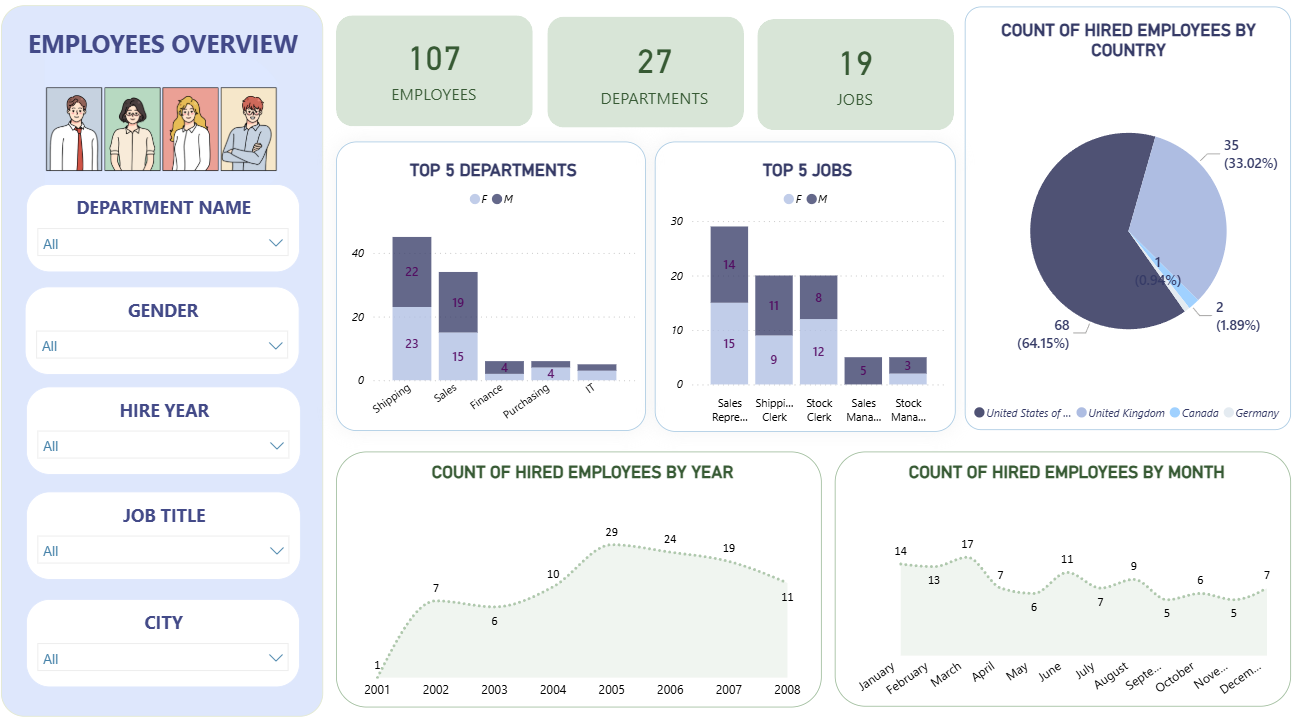

Layout of this report page (visuals, bound fields, positions):
{"tool":"powerbi","page":{"name":"employees overview","canvas":[1280,720],"ordinal":0},"visuals":[{"type":"areaChart","title":"COUNT OF  HIRED EMPLOYEES  BY YEAR","fields":{"Category":["employees.HIRE_DATE.Variation.Date Hierarchy.Year"],"Y":["CountNonNull(employees.EMPLOYEE_ID)"]},"box":[337.5,452.5,475,250],"z":0},{"type":"textbox","box":[10,16.2,315,696.2],"z":1000},{"type":"slicer","title":"DEPARTMENT NAME","fields":{"Values":["departments.DEPARTMENT_NAME"]},"box":[34.2,190.7,267.7,86.8],"z":2000},{"type":"slicer","title":"HIRE YEAR","fields":{"Values":["employees.HIRE_DATE.Variation.Date Hierarchy.Year"]},"box":[33.8,388.8,268.8,86.2],"z":3000},{"type":"slicer","title":"JOB TITLE","fields":{"Values":["jobs.JOB_TITLE"]},"box":[33.8,491.2,268.8,86.2],"z":4000},{"type":"slicer","title":"CITY","fields":{"Values":["locations.CITY"]},"box":[34.2,596.5,267.7,86.8],"z":5000},{"type":"columnChart","title":"TOP 5 DEPARTMENTS","fields":{"Category":["departments.DEPARTMENT_NAME"],"Y":["CountNonNull(employees.EMPLOYEE_ID)"],"Series":["employees.Genders"]},"box":[337.4,149.1,303.2,283.6],"z":6000},{"type":"columnChart","title":"TOP 5 JOBS","fields":{"Y":["CountNonNull(employees.EMPLOYEE_ID)"],"Category":["jobs.JOB_TITLE"],"Series":["employees.Genders"]},"box":[648.8,148.8,294.2,283.7],"z":7000},{"type":"areaChart","title":"COUNT OF HIRED EMPLOYEES BY MONTH","fields":{"Category":["employees.HIRE_DATE.Variation.Date Hierarchy.Month"],"Y":["CountNonNull(employees.EMPLOYEE_ID)"]},"box":[825.4,452.4,446.3,249.5],"z":8000},{"type":"pieChart","title":"COUNT OF HIRED EMPLOYEES BY COUNTRY","fields":{"Y":["CountNonNull(employees.Genders)"],"Category":["countries.COUNTRY_NAME"]},"box":[952.3,17.1,319,414.4],"z":9000},{"type":"shape","box":[337.5,26.2,192.5,108.8],"z":10000},{"type":"card","fields":{"Values":["Count(employees.EMPLOYEE_ID)"]},"box":[343.5,17.1,179.7,117.4],"z":11000},{"type":"shape","box":[543.8,27.5,192.5,108.8],"z":12000},{"type":"shape","box":[750,28.8,192.5,108.8],"z":13000},{"type":"card","fields":{"Values":["Count(departments.DEPARTMENT_ID)"]},"box":[572.1,25.7,154,107.6],"z":14000},{"type":"card","fields":{"Values":["Count(jobs.JOB_ID)"]},"box":[768.9,26.9,152.8,108.8],"z":15000},{"type":"image","box":[47.7,37.9,239.6,178.5],"z":16000},{"type":"slicer","title":"GENDER","fields":{"Values":["employees.Genders"]},"box":[32.5,291.2,268.8,86.2],"z":17000}]}

Visuals, with their boxes in screenshot pixels (x1, y1, x2, y2), scaled from the page's 1280x720 canvas onto the 1298x720 screenshot:
"COUNT OF  HIRED EMPLOYEES  BY YEAR" areaChart: (left=342, top=452, right=824, bottom=702)
textbox: (left=10, top=16, right=330, bottom=712)
"DEPARTMENT NAME" slicer: (left=35, top=191, right=306, bottom=278)
"HIRE YEAR" slicer: (left=34, top=389, right=307, bottom=475)
"JOB TITLE" slicer: (left=34, top=491, right=307, bottom=577)
"CITY" slicer: (left=35, top=596, right=306, bottom=683)
"TOP 5 DEPARTMENTS" columnChart: (left=342, top=149, right=650, bottom=433)
"TOP 5 JOBS" columnChart: (left=658, top=149, right=956, bottom=432)
"COUNT OF HIRED EMPLOYEES BY MONTH" areaChart: (left=837, top=452, right=1290, bottom=702)
"COUNT OF HIRED EMPLOYEES BY COUNTRY" pieChart: (left=966, top=17, right=1289, bottom=432)
shape: (left=342, top=26, right=537, bottom=135)
card - Count(employees.EMPLOYEE_ID): (left=348, top=17, right=531, bottom=134)
shape: (left=551, top=28, right=747, bottom=136)
shape: (left=761, top=29, right=956, bottom=138)
card - Count(departments.DEPARTMENT_ID): (left=580, top=26, right=736, bottom=133)
card - Count(jobs.JOB_ID): (left=780, top=27, right=935, bottom=136)
image: (left=48, top=38, right=291, bottom=216)
"GENDER" slicer: (left=33, top=291, right=306, bottom=377)
